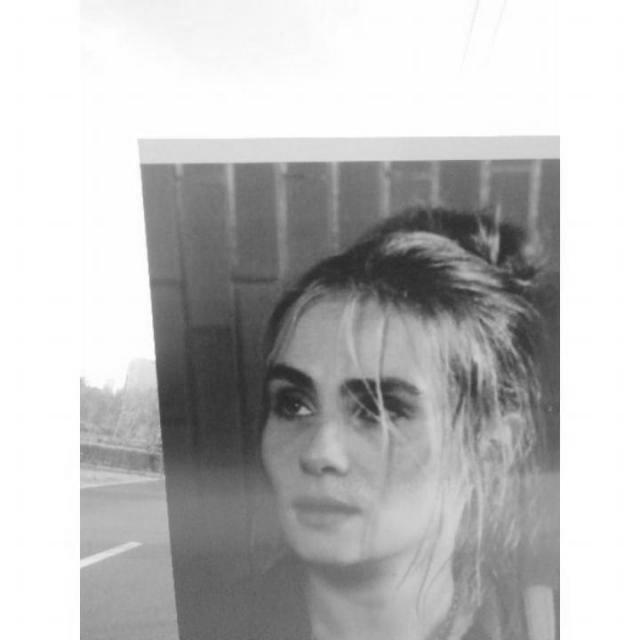fake: (135, 127, 559, 639)
